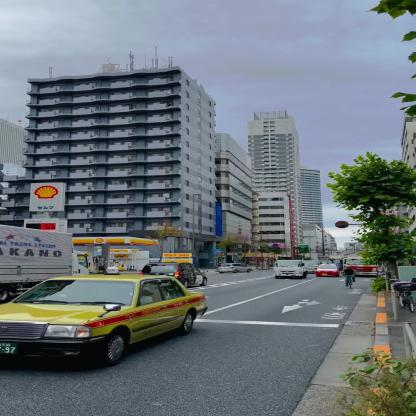car: (2, 274, 207, 366), (140, 262, 209, 287), (216, 263, 251, 273), (316, 264, 337, 276)
motorcycle: (342, 265, 357, 290)
truck: (0, 225, 93, 301), (274, 259, 310, 279)
